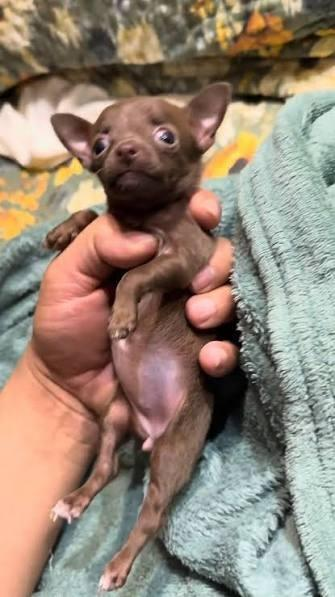puppy-dog: (40, 81, 235, 591)
